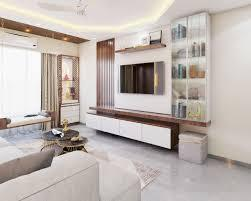TV: (116, 63, 159, 94)
console: (82, 105, 175, 148)
fan: (30, 0, 98, 20)
light: (20, 25, 36, 37), (59, 34, 71, 42), (0, 20, 5, 28)
sofa: (0, 133, 141, 201), (0, 111, 58, 132)
table: (37, 127, 83, 154)
